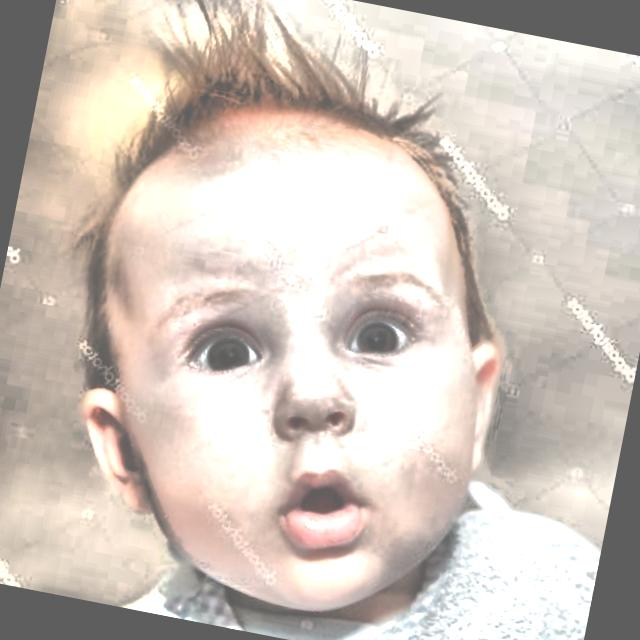surprised: (0, 83, 544, 634)
